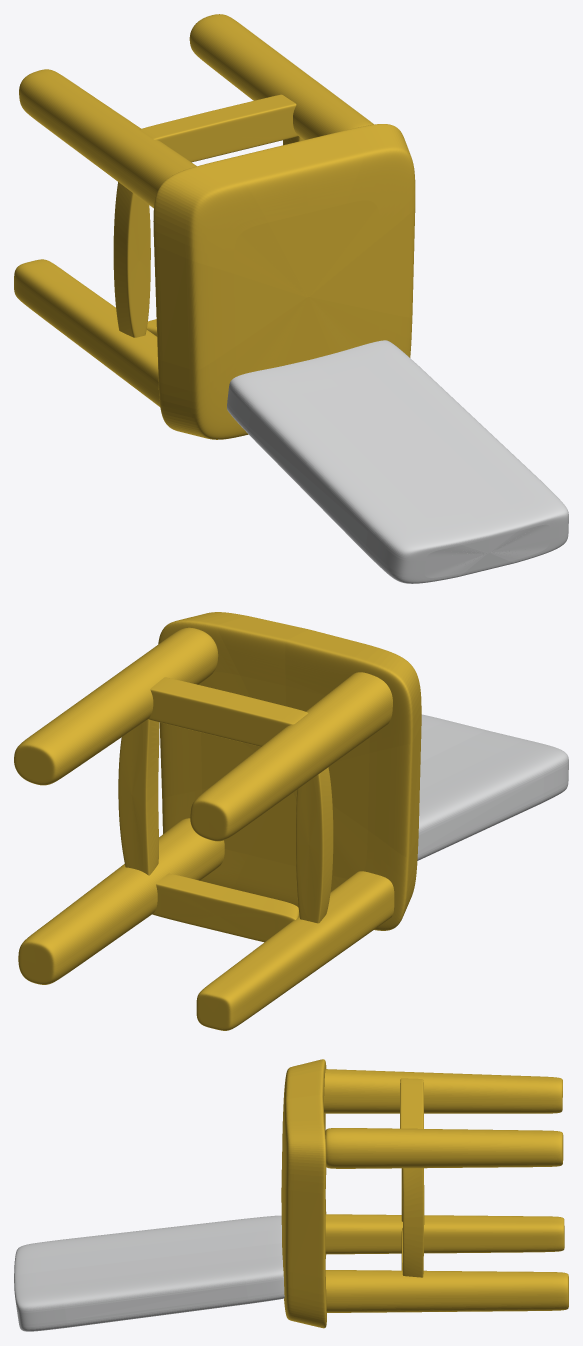
Rendered from chair-input.glb.
The picture shows the model from 3 angles, top to bottom: view 1: azimuth 30°, elevation 25°; view 2: azimuth 150°, elevation 25°; view 3: azimuth 270°, elevation 25°; orthographic projection. The views are drawn at different scales.
Visible parts, largest first — view 1: superquadric_0, superquadric_3, superquadric_5, superquadric_4, superquadric_2, superquadric_7, superquadric_8; view 2: superquadric_0, superquadric_3, superquadric_5, superquadric_2, superquadric_4, superquadric_1, superquadric_7, superquadric_6, superquadric_9, superquadric_8; view 3: superquadric_3, superquadric_0, superquadric_1, superquadric_4, superquadric_5, superquadric_2, superquadric_9, superquadric_7.
Part boxes in pixels (<box>): superquadric_0: <box>153,124,415,439</box>; superquadric_3: <box>227,340,568,583</box>; superquadric_5: <box>19,69,196,208</box>; superquadric_4: <box>189,14,373,140</box>; superquadric_2: <box>14,259,160,406</box>; superquadric_7: <box>139,94,297,162</box>; superquadric_8: <box>113,182,150,337</box>; superquadric_0: <box>158,612,421,930</box>; superquadric_3: <box>417,714,568,860</box>; superquadric_5: <box>190,672,392,841</box>; superquadric_2: <box>196,871,394,1030</box>; superquadric_4: <box>14,627,218,785</box>; superquadric_1: <box>18,818,224,984</box>; superquadric_7: <box>148,677,307,746</box>; superquadric_6: <box>152,873,299,942</box>; superquadric_9: <box>118,719,159,875</box>; superquadric_8: <box>296,767,333,923</box>; superquadric_3: <box>14,1215,284,1331</box>; superquadric_0: <box>281,1059,326,1328</box>; superquadric_1: <box>325,1270,568,1312</box>; superquadric_4: <box>325,1128,563,1168</box>; superquadric_5: <box>323,1069,562,1113</box>; superquadric_2: <box>325,1214,564,1254</box>; superquadric_9: <box>402,1168,424,1277</box>; superquadric_7: <box>400,1078,423,1128</box>.
Size of the model in its own units: 0.3944 by 0.4166 by 1.
